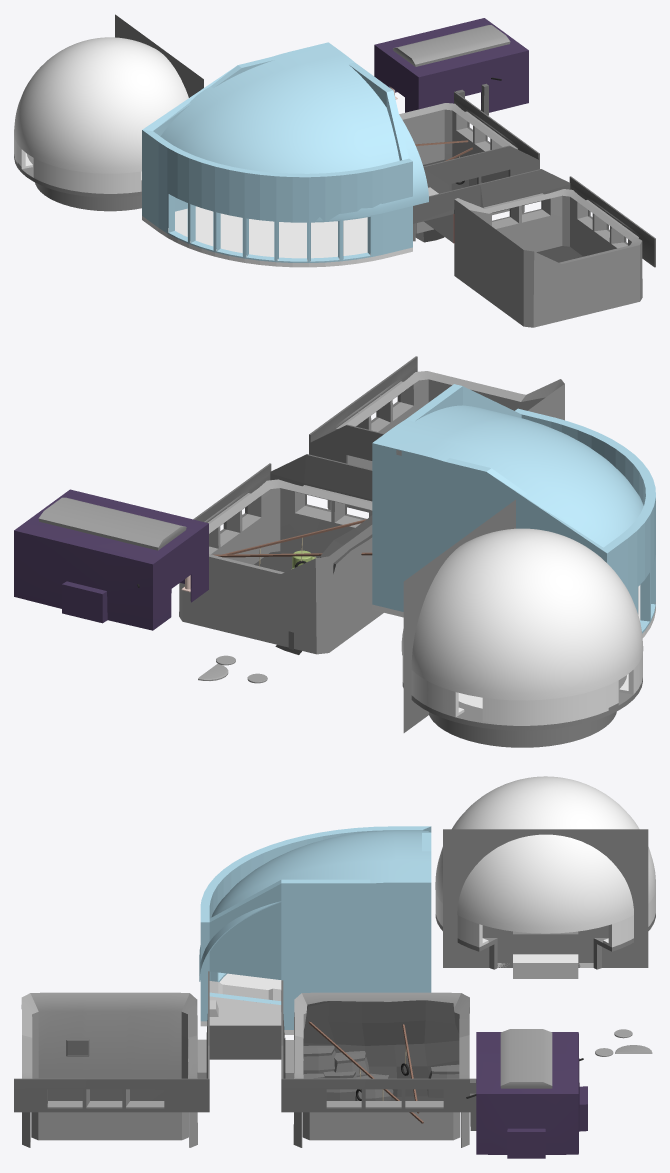
File: NewEpicLevel (textured).fbx
3 views of the same model, one above another, from view 1: azimuth 30°, elevation 25°; view 2: azimuth 150°, elevation 25°; view 3: azimuth 270°, elevation 25° (orthographic). The views are drawn at different scales.
Visible parts, largest first — view 1: polySurface5, pSphere2, pCube104, pSphere1, polySurface11, Korridor5, pCube61, pCylinder2, Korridor3, pCube10, Korridor1; view 2: pSphere1, polySurface5, pCube61, polySurface11, pSphere2, pCylinder2, pCube104, Korridor5, pCube10, Korridor3, Korridor1, pCube62; view 3: polySurface5, pCube104, pSphere1, polySurface11, pCube10, pCube61, pCube62, pSphere2, Korridor3, Korridor5, Korridor1, pCylinder2 (+4 smaller).
Boxes of the visible parts, left/top/right/bottom form: polySurface5: left=142, top=57, right=412, bottom=267; pSphere2: left=160, top=42, right=428, bottom=220; pCube104: left=454, top=189, right=642, bottom=327; pSphere1: left=14, top=37, right=188, bottom=173; polySurface11: left=374, top=18, right=528, bottom=115; Korridor5: left=413, top=145, right=570, bottom=243; pCube61: left=399, top=103, right=524, bottom=241; pCylinder2: left=14, top=135, right=141, bottom=211; Korridor3: left=569, top=176, right=655, bottom=267; pCube10: left=115, top=14, right=203, bottom=97; Korridor1: left=454, top=91, right=539, bottom=169; pSphere1: left=401, top=528, right=643, bottom=700; polySurface5: left=372, top=384, right=655, bottom=637; pCube61: left=179, top=479, right=383, bottom=654; polySurface11: left=14, top=489, right=208, bottom=630; pSphere2: left=372, top=405, right=643, bottom=547; pCylinder2: left=402, top=653, right=642, bottom=747; pCube104: left=327, top=371, right=564, bottom=512; Korridor5: left=270, top=424, right=384, bottom=519; pCube10: left=403, top=499, right=515, bottom=732; Korridor3: left=309, top=356, right=417, bottom=454; Korridor1: left=193, top=463, right=271, bottom=533; pCube62: left=275, top=515, right=372, bottom=654; polySurface5: left=200, top=826, right=431, bottom=1034; pCube104: left=21, top=992, right=206, bottom=1147; pSphere1: left=435, top=776, right=655, bottom=933; polySurface11: left=470, top=1029, right=587, bottom=1158; pCube10: left=443, top=829, right=648, bottom=978; pCube61: left=285, top=992, right=469, bottom=1147; pCube62: left=303, top=1000, right=459, bottom=1096; pSphere2: left=199, top=831, right=431, bottom=981; Korridor3: left=14, top=1078, right=209, bottom=1112; Korridor5: left=206, top=971, right=285, bottom=1112; Korridor1: left=281, top=1078, right=475, bottom=1112; pCylinder2: left=435, top=890, right=655, bottom=969.
Size of the model in its own units: 69.38 by 24.34 by 69.93.
